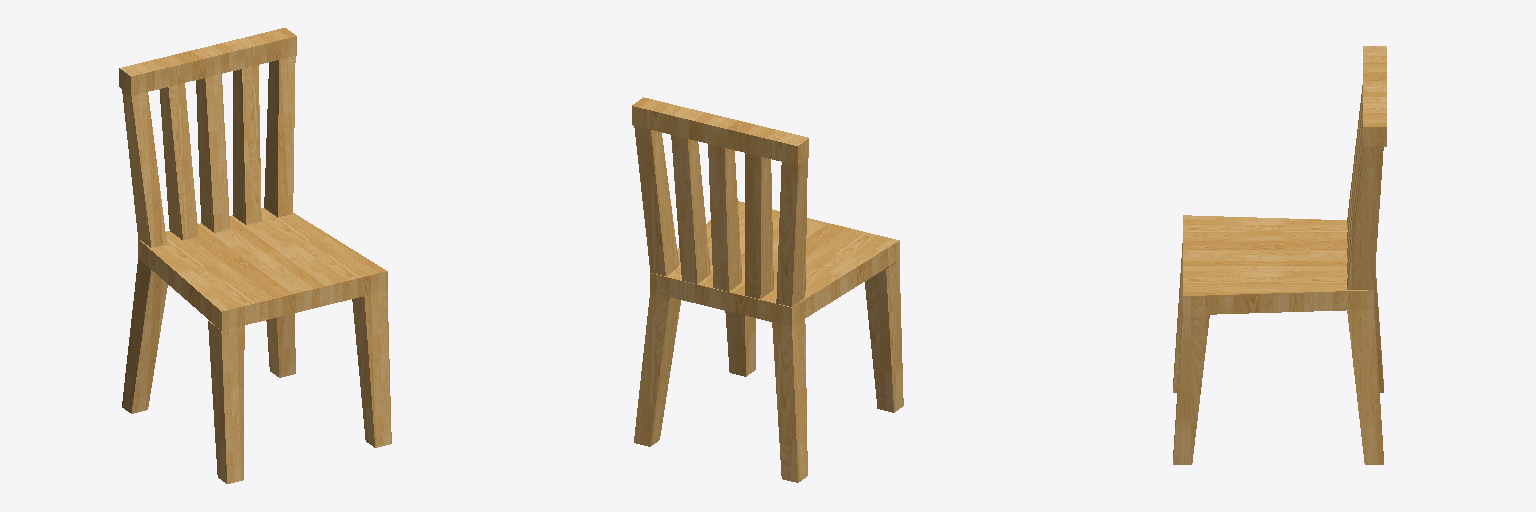
3 views of the same model, side by side, from view 1: azimuth 30°, elevation 25°; view 2: azimuth 150°, elevation 25°; view 3: azimuth 270°, elevation 25° (orthographic).
Size of the model in its own units: 1.8 by 3.5 by 2.01.
Materials: 1 (1 with a texture image).